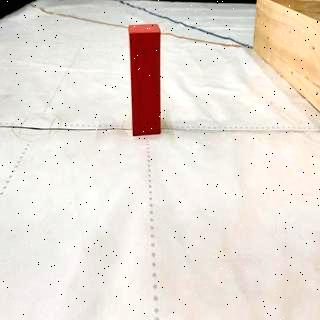redbox: (127, 23, 163, 136)
